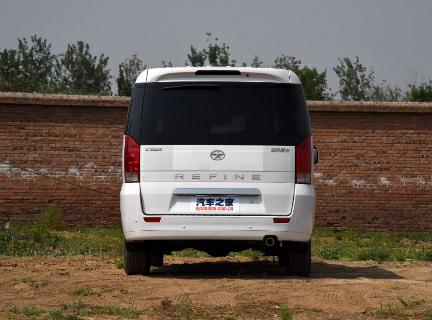江淮-瑞风M5: (112, 65, 323, 274)
